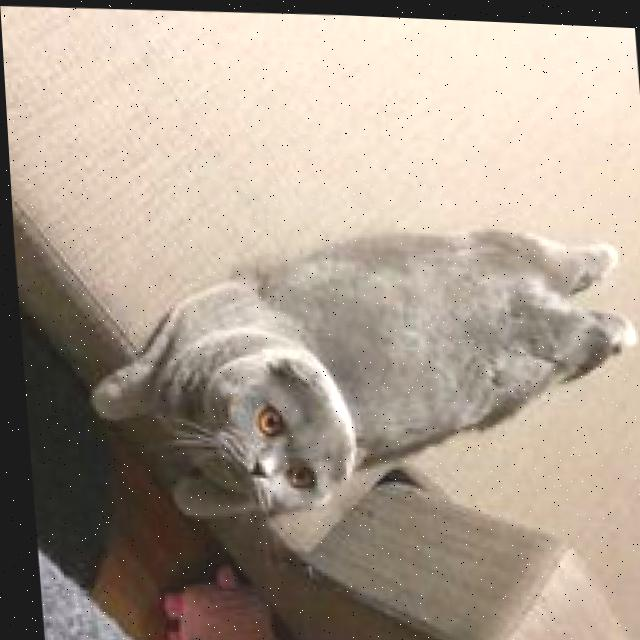Scottish Fold: (64, 198, 640, 542)
